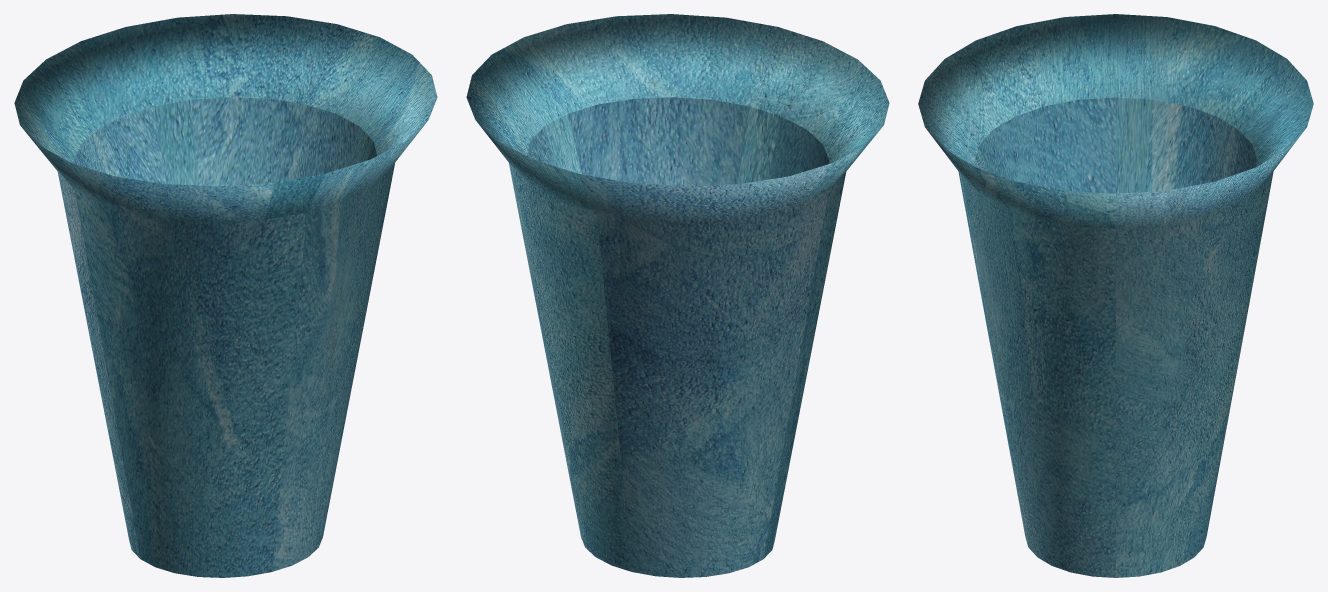
The model's file is cup.fbx.
3 renders of one model, left to right at view 1: azimuth 30°, elevation 25°; view 2: azimuth 150°, elevation 25°; view 3: azimuth 270°, elevation 25°, orthographic.
Parts seen in each view (by area): view 1: cup_low; view 2: cup_low; view 3: cup_low.
Part boxes in pixels (x1,y1,x2,y2): cup_low: [14, 14, 437, 577]; cup_low: [466, 14, 889, 577]; cup_low: [918, 14, 1313, 577].
Size of the model in its own units: 182 by 204 by 169.
